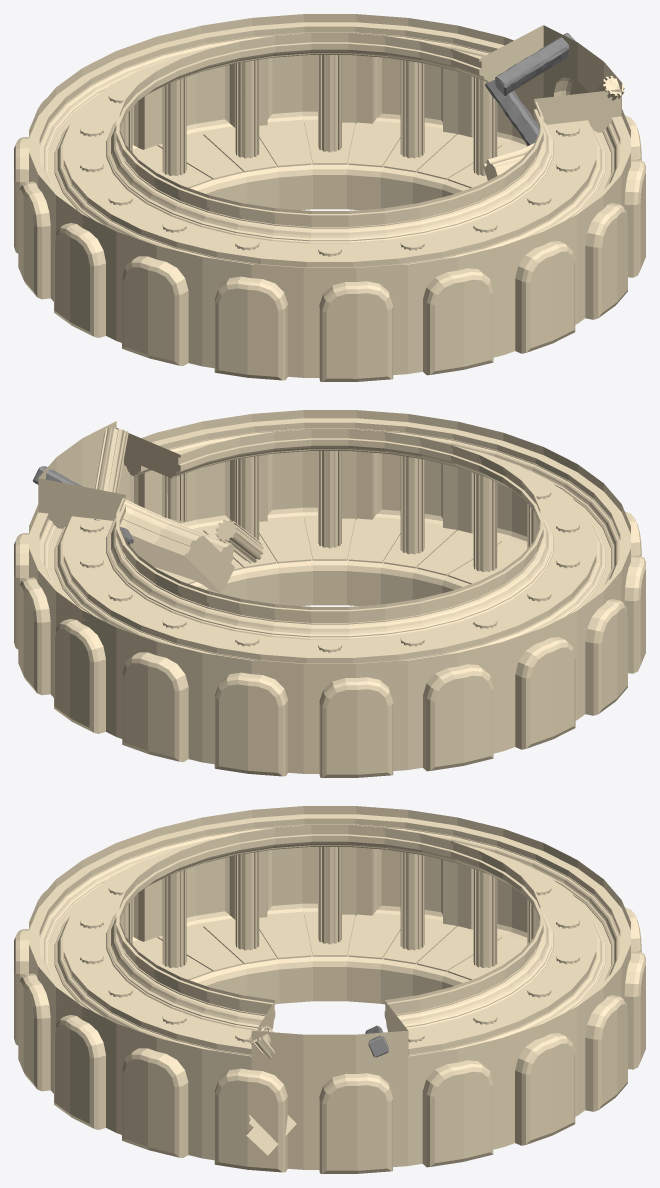
The model's file is DIS.fbx.
The picture shows the model from 3 angles, top to bottom: view 1: azimuth 30°, elevation 25°; view 2: azimuth 150°, elevation 25°; view 3: azimuth 270°, elevation 25°; orthographic projection.
Visible parts, largest first — view 1: Cylinder.008; view 2: Cylinder.008; view 3: Cylinder.008.
Part boxes in pixels (x1=…): Cylinder.008: x1=14, y1=14, x2=645, y2=381; Cylinder.008: x1=14, y1=410, x2=645, y2=777; Cylinder.008: x1=14, y1=806, x2=645, y2=1173.
Size of the model in its own units: 4201 by 1294 by 4184.
